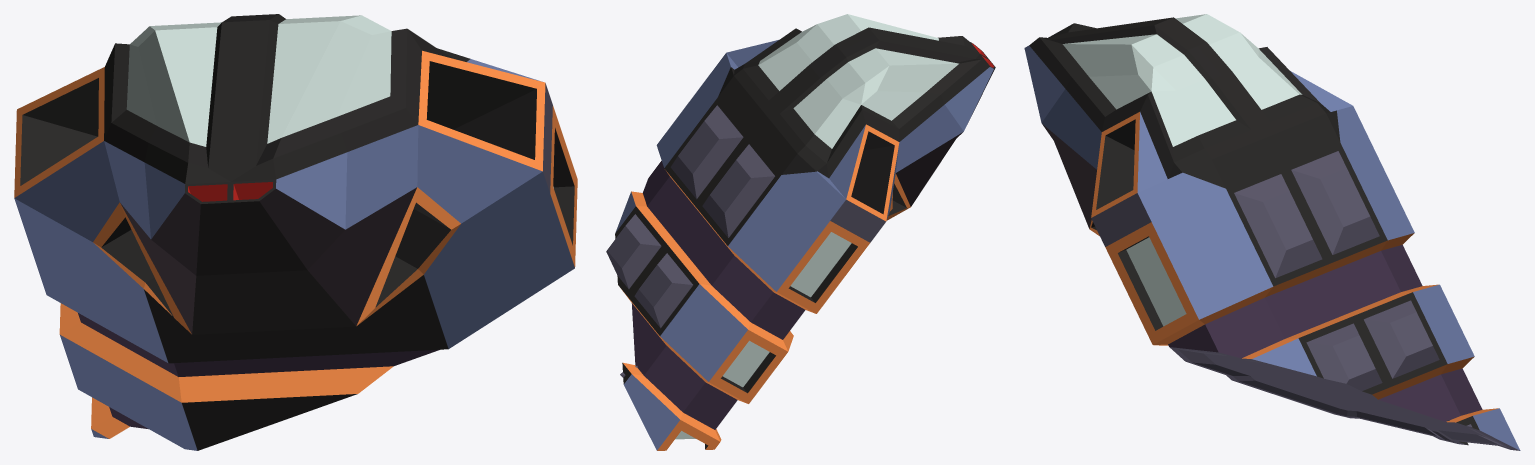
Rendered from F2.Body.02.fbx.
3 renders of one model, left to right at view 1: azimuth 30°, elevation 25°; view 2: azimuth 150°, elevation 25°; view 3: azimuth 270°, elevation 25°, orthographic. The views are drawn at different scales.
Parts seen in each view (by area): view 1: Freighter_02.Body.02; view 2: Freighter_02.Body.02; view 3: Freighter_02.Body.02.
Part boxes in pixels (left/top/right/bottom): Freighter_02.Body.02: left=14, top=14, right=577, bottom=450; Freighter_02.Body.02: left=606, top=14, right=995, bottom=450; Freighter_02.Body.02: left=1024, top=14, right=1520, bottom=450.
Bounding box in the file's own units: 2589 × 2931 × 3270.
